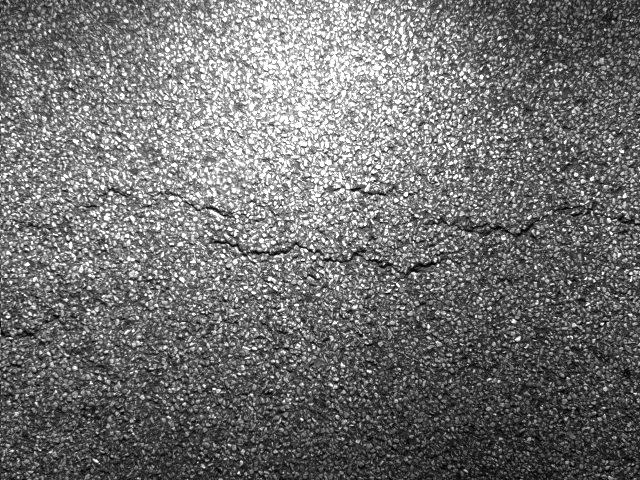crack: (8, 179, 640, 295)
